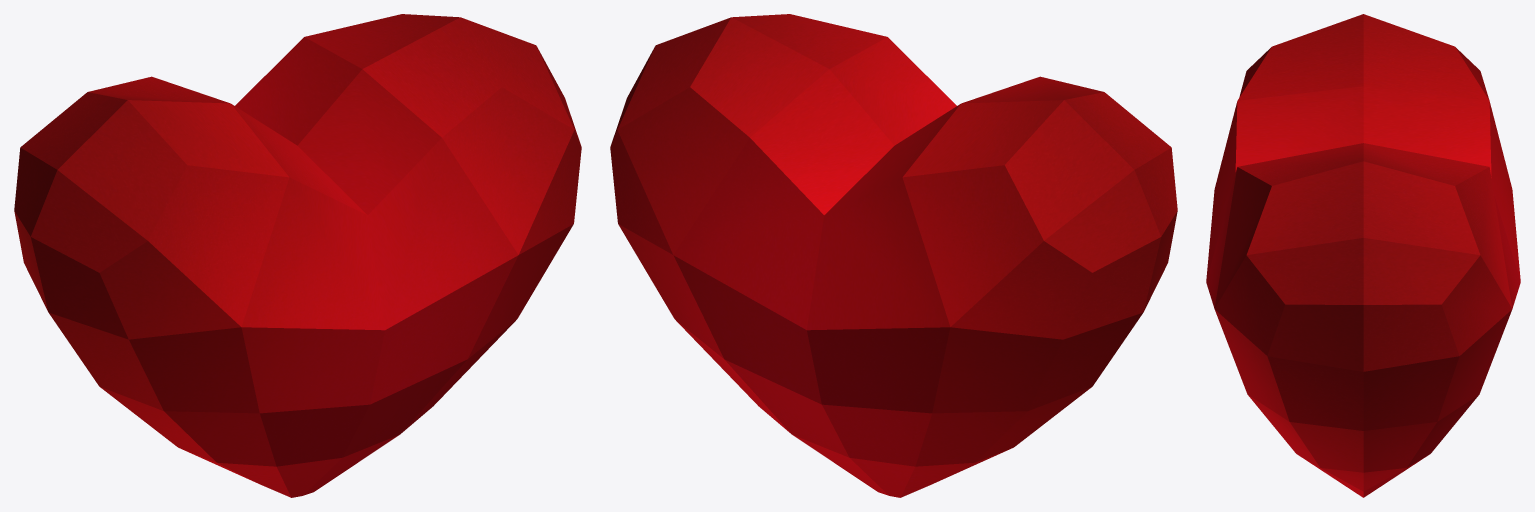
Rendered from Heart.obj.
3 renders of one model, left to right at view 1: azimuth 30°, elevation 25°; view 2: azimuth 150°, elevation 25°; view 3: azimuth 270°, elevation 25°, orthographic. The views are drawn at different scales.
Parts seen in each view (by area): view 1: Box004; view 2: Box004; view 3: Box004.
Boxes of the visible parts, bbox=[...] form: Box004: bbox=[14, 14, 581, 497]; Box004: bbox=[610, 14, 1177, 497]; Box004: bbox=[1206, 14, 1520, 497].
Size of the model in its own units: 3.98 by 3.13 by 2.21.
1 material, 1 textured.
